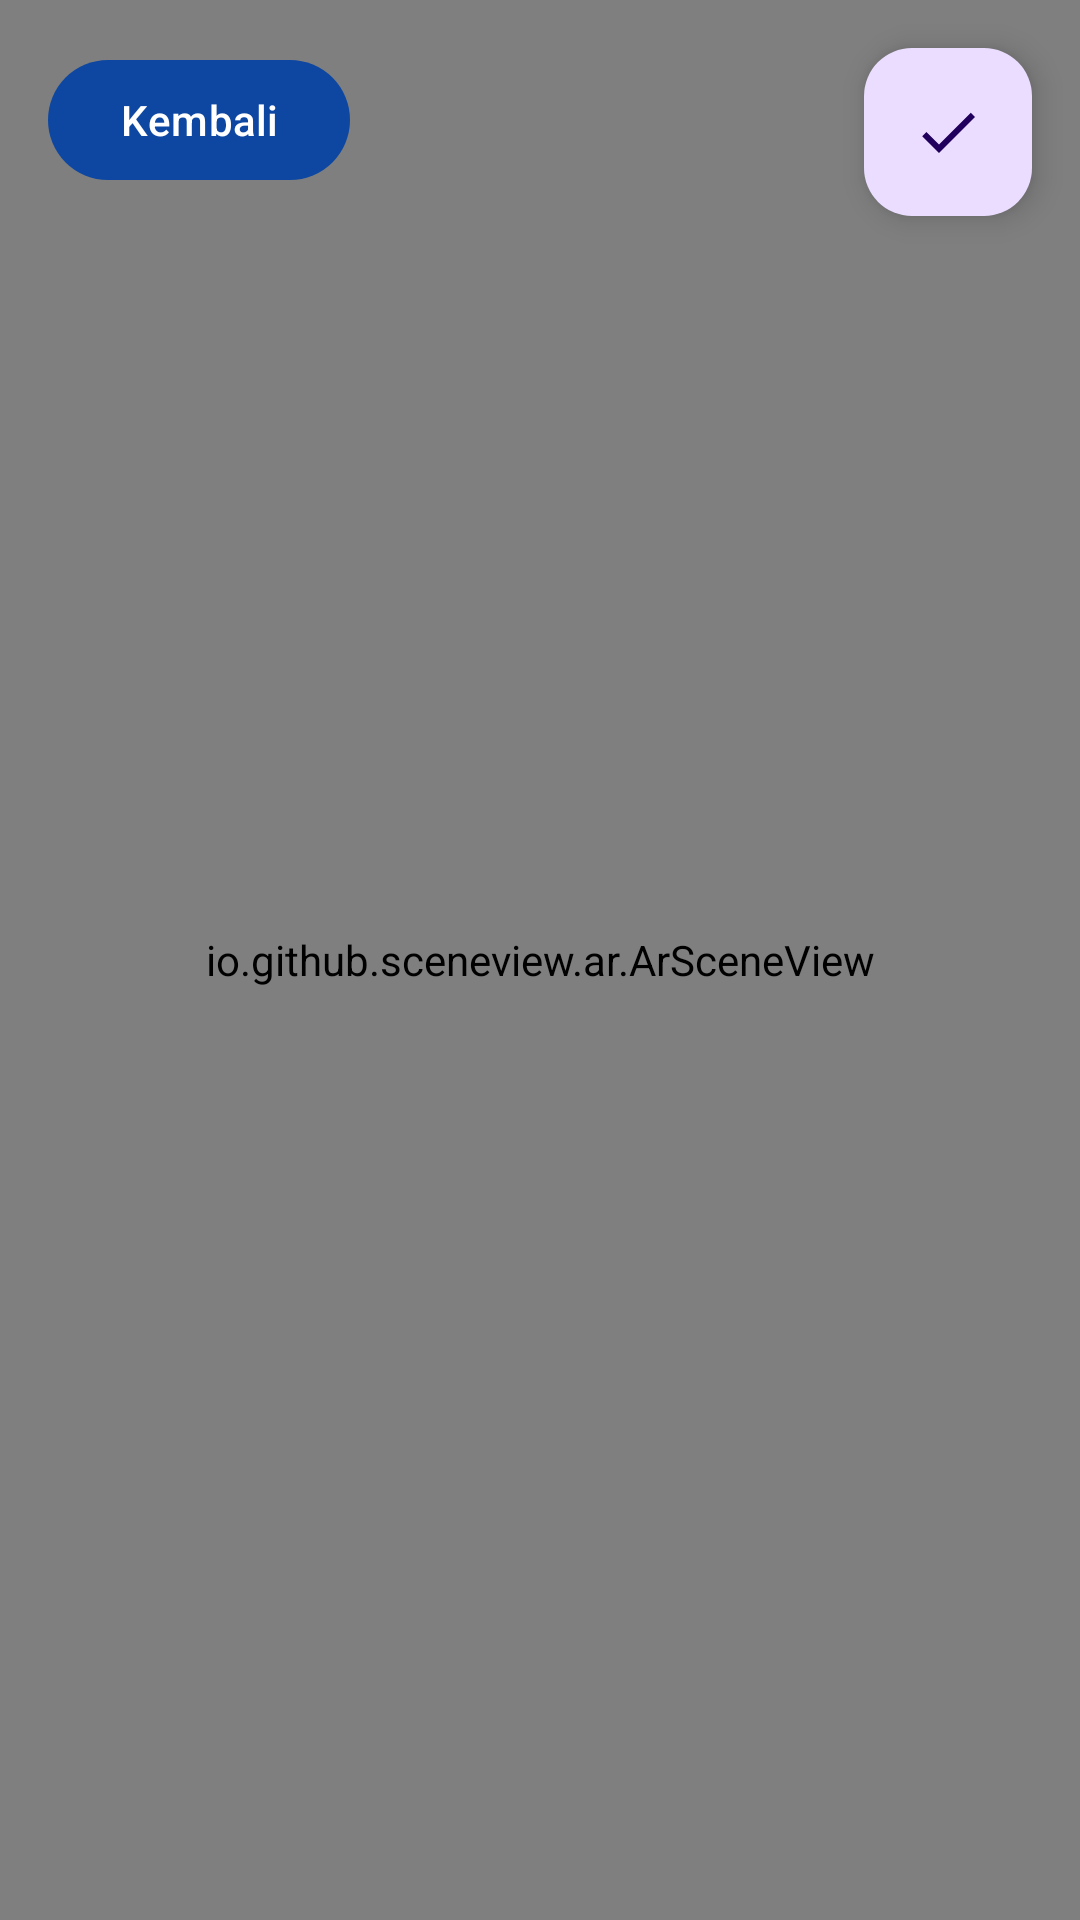

Icons on this 1080*1920 Android screen, each with its box as [x1, y1, x2, y2]:
done: [864, 48, 1032, 216]
